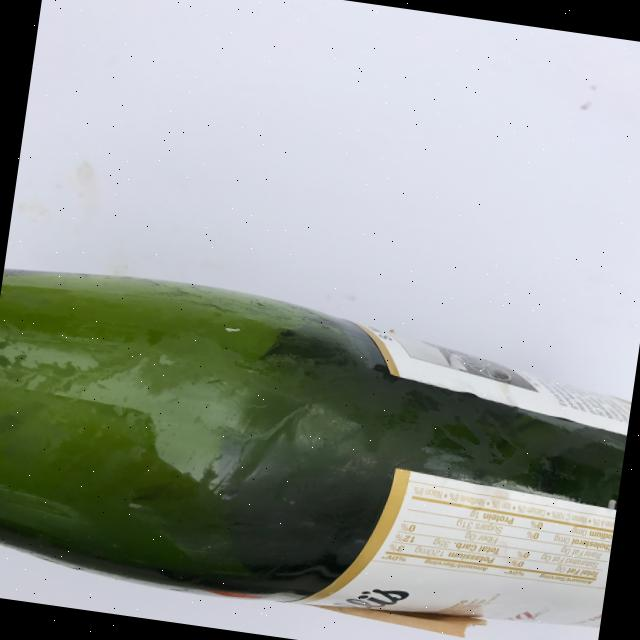glass: (0, 256, 638, 640)
